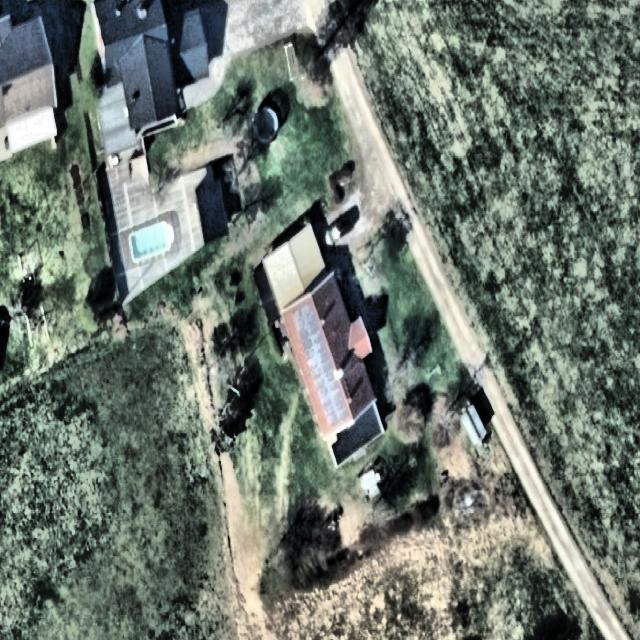roof_pv: (290, 302, 336, 364), (310, 364, 350, 429)
